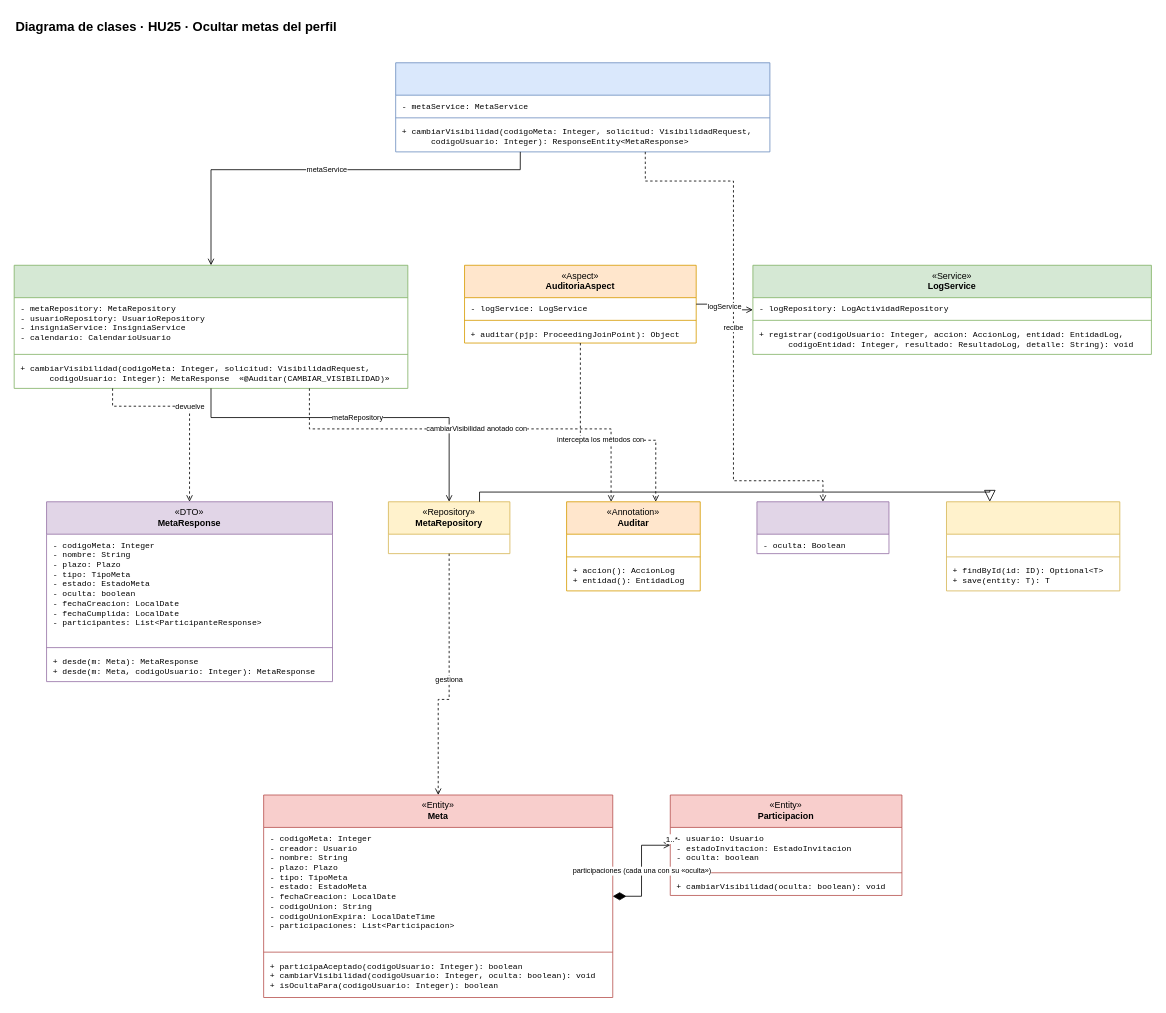
Some shapes in this 1166 by 1013 pixel diagram are drawn without their labels. Here are the shapes that lost their labels. From the top down, the box of each, then its label:
(395, 62, 770, 152): «RestController» MetaController
(13, 264, 408, 388): «Service» MetaService
(756, 501, 889, 554): «DTO» VisibilidadRequest
(946, 501, 1120, 591): «Interface» JpaRepository<T, ID>
